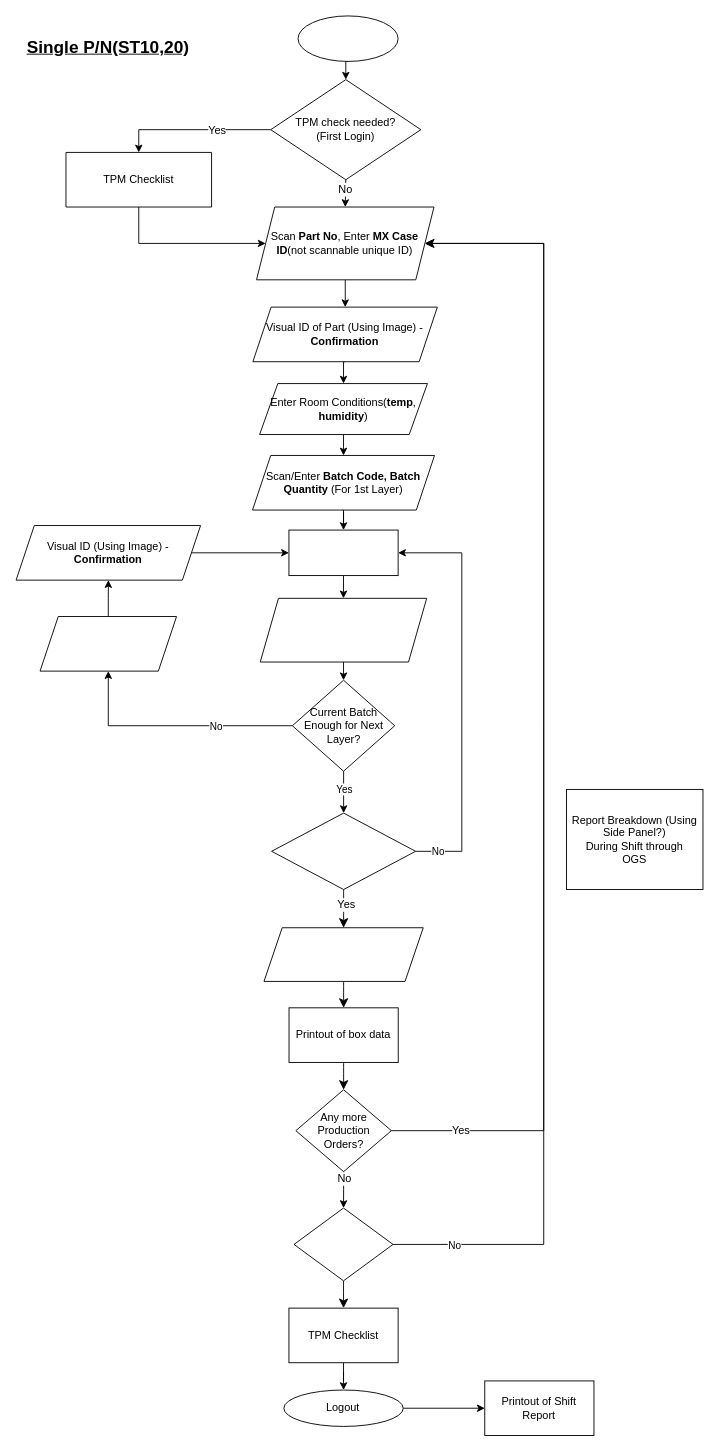
Some shapes in this 719 by 1451 pixel diagram are drawn without their labels. Each missing label, with the centre of its shape:
Confirmation Per Layer (Set Layer Quantity For Each P/N): (343,629)
Enter Notes: (343,954)
Login: (347,38)
Logout?: (343,1244)
Pack Parts: (343,552)
Parts Quantity Reached?: (343,851)
Scan/Enter Next Batch's Part No , Batch Code: (108,643)
